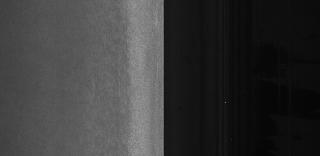silk spot: (108, 22, 142, 106)
